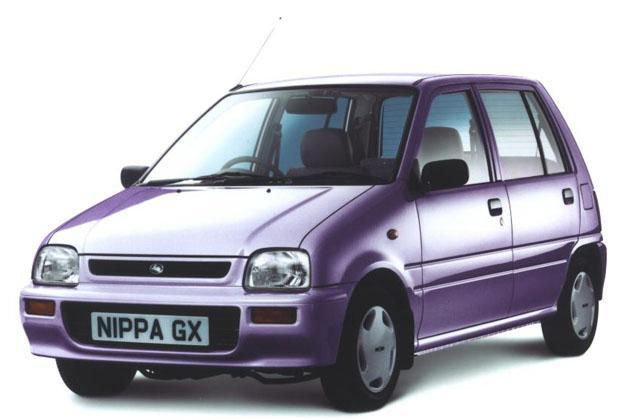Car: (19, 61, 616, 420)
